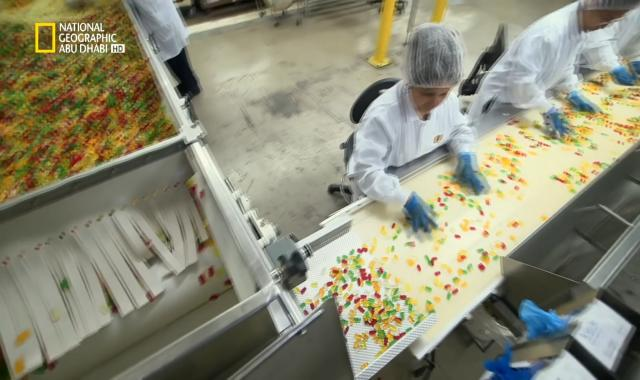hairnet: (406, 20, 460, 94)
